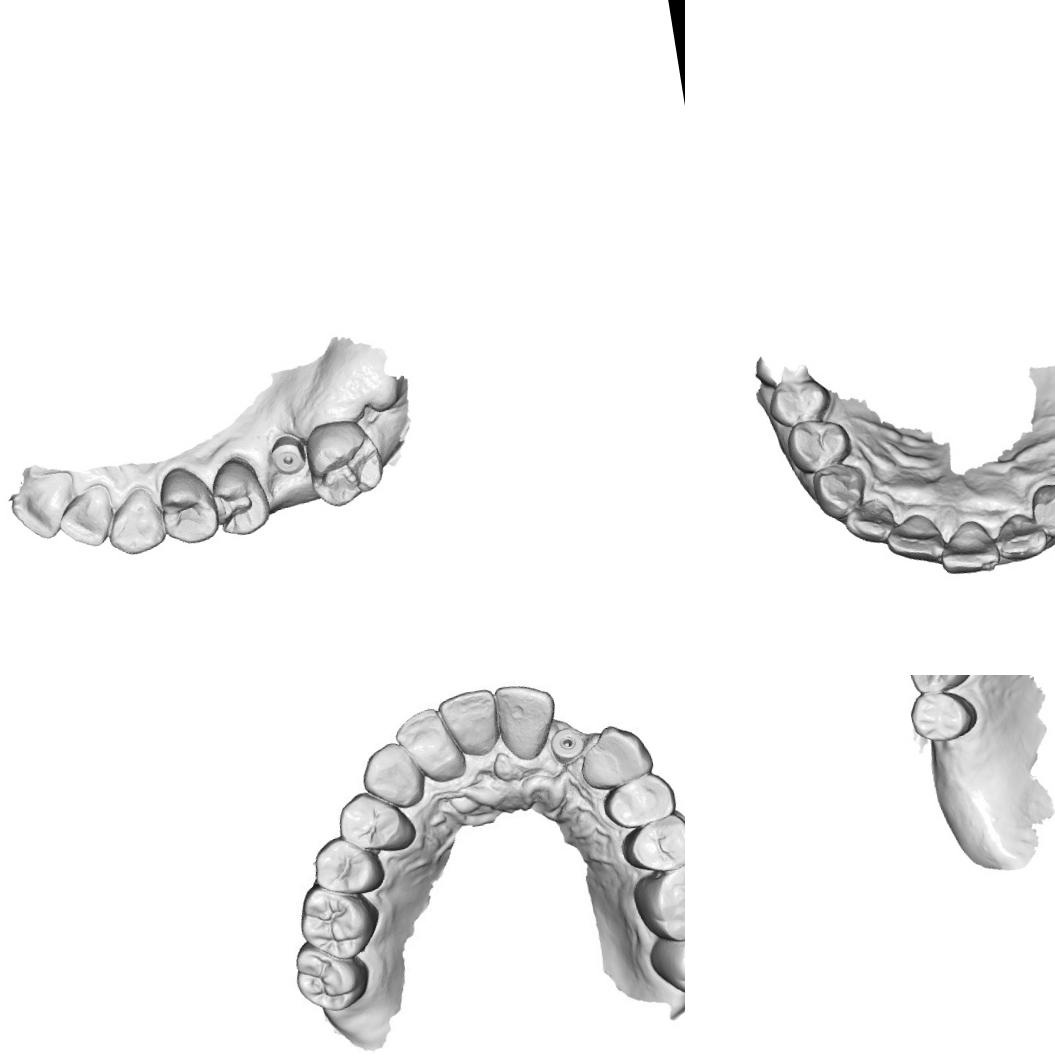canine: (354, 737, 430, 814), (102, 486, 168, 558), (581, 722, 650, 788), (809, 458, 871, 523), (1026, 477, 1055, 544)
implant: (266, 433, 308, 478), (548, 723, 584, 765)
incisor: (492, 676, 562, 762), (5, 467, 78, 545), (398, 707, 466, 787), (935, 515, 1005, 579), (55, 482, 118, 550), (440, 687, 501, 755), (880, 508, 945, 568), (989, 507, 1051, 564), (840, 494, 898, 548)
inlay: (208, 484, 260, 534)
molar: (301, 413, 391, 513), (298, 883, 376, 963), (293, 938, 366, 1012), (647, 860, 685, 944), (654, 923, 685, 1000)
premolar: (153, 462, 221, 553), (336, 789, 414, 852), (906, 683, 980, 747), (780, 413, 855, 476), (762, 374, 836, 432), (313, 835, 381, 896), (604, 770, 674, 824), (626, 813, 685, 876), (902, 675, 976, 697)
